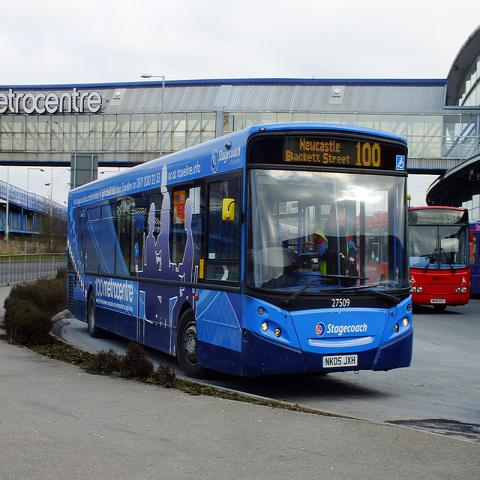bus: (66, 125, 410, 380), (410, 206, 470, 310)
